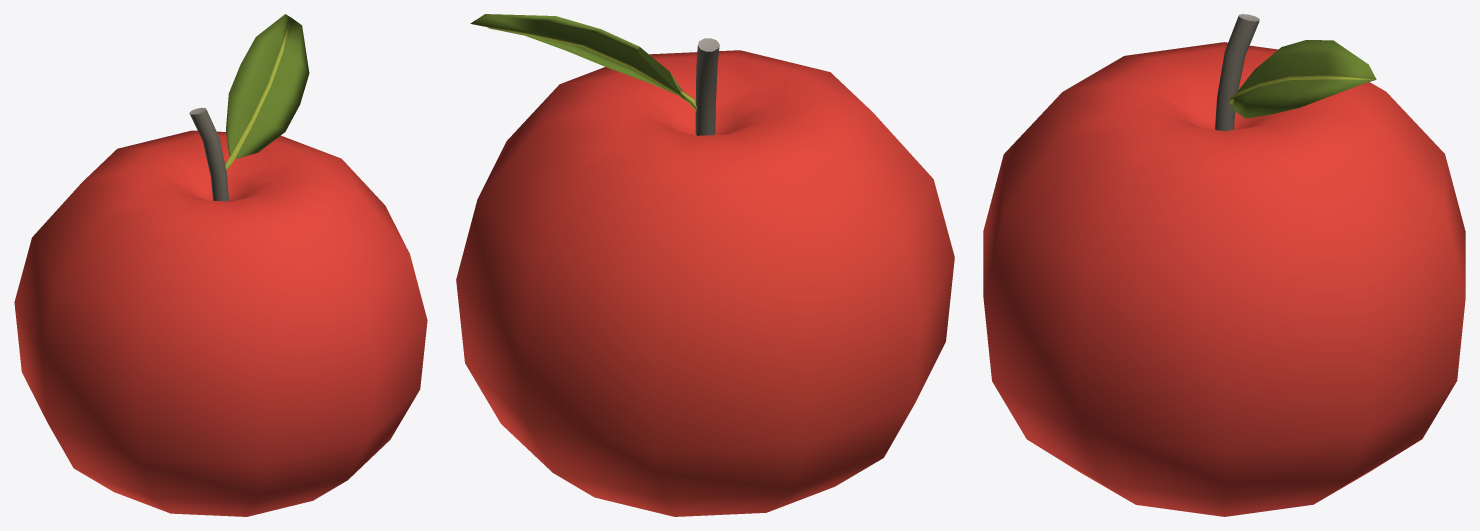
The model's file is food_apple.glb.
3 views of the same model, side by side, from view 1: azimuth 30°, elevation 25°; view 2: azimuth 150°, elevation 25°; view 3: azimuth 270°, elevation 25° (orthographic). The views are drawn at different scales.
Visible parts, largest first — view 1: food_apple; view 2: food_apple; view 3: food_apple.
Part boxes in pixels (left/top/right/bottom): food_apple: left=14, top=14, right=427, bottom=516; food_apple: left=456, top=14, right=954, bottom=516; food_apple: left=983, top=14, right=1465, bottom=516.
Size of the model in its own units: 34.63 by 36 by 32.95.
1 material, 1 textured.
